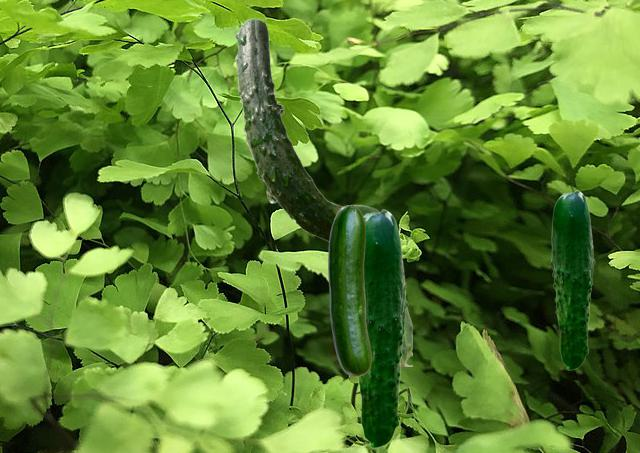cucumber: (234, 18, 341, 241), (357, 209, 407, 447), (349, 204, 411, 365), (550, 190, 594, 369), (328, 205, 370, 375)
